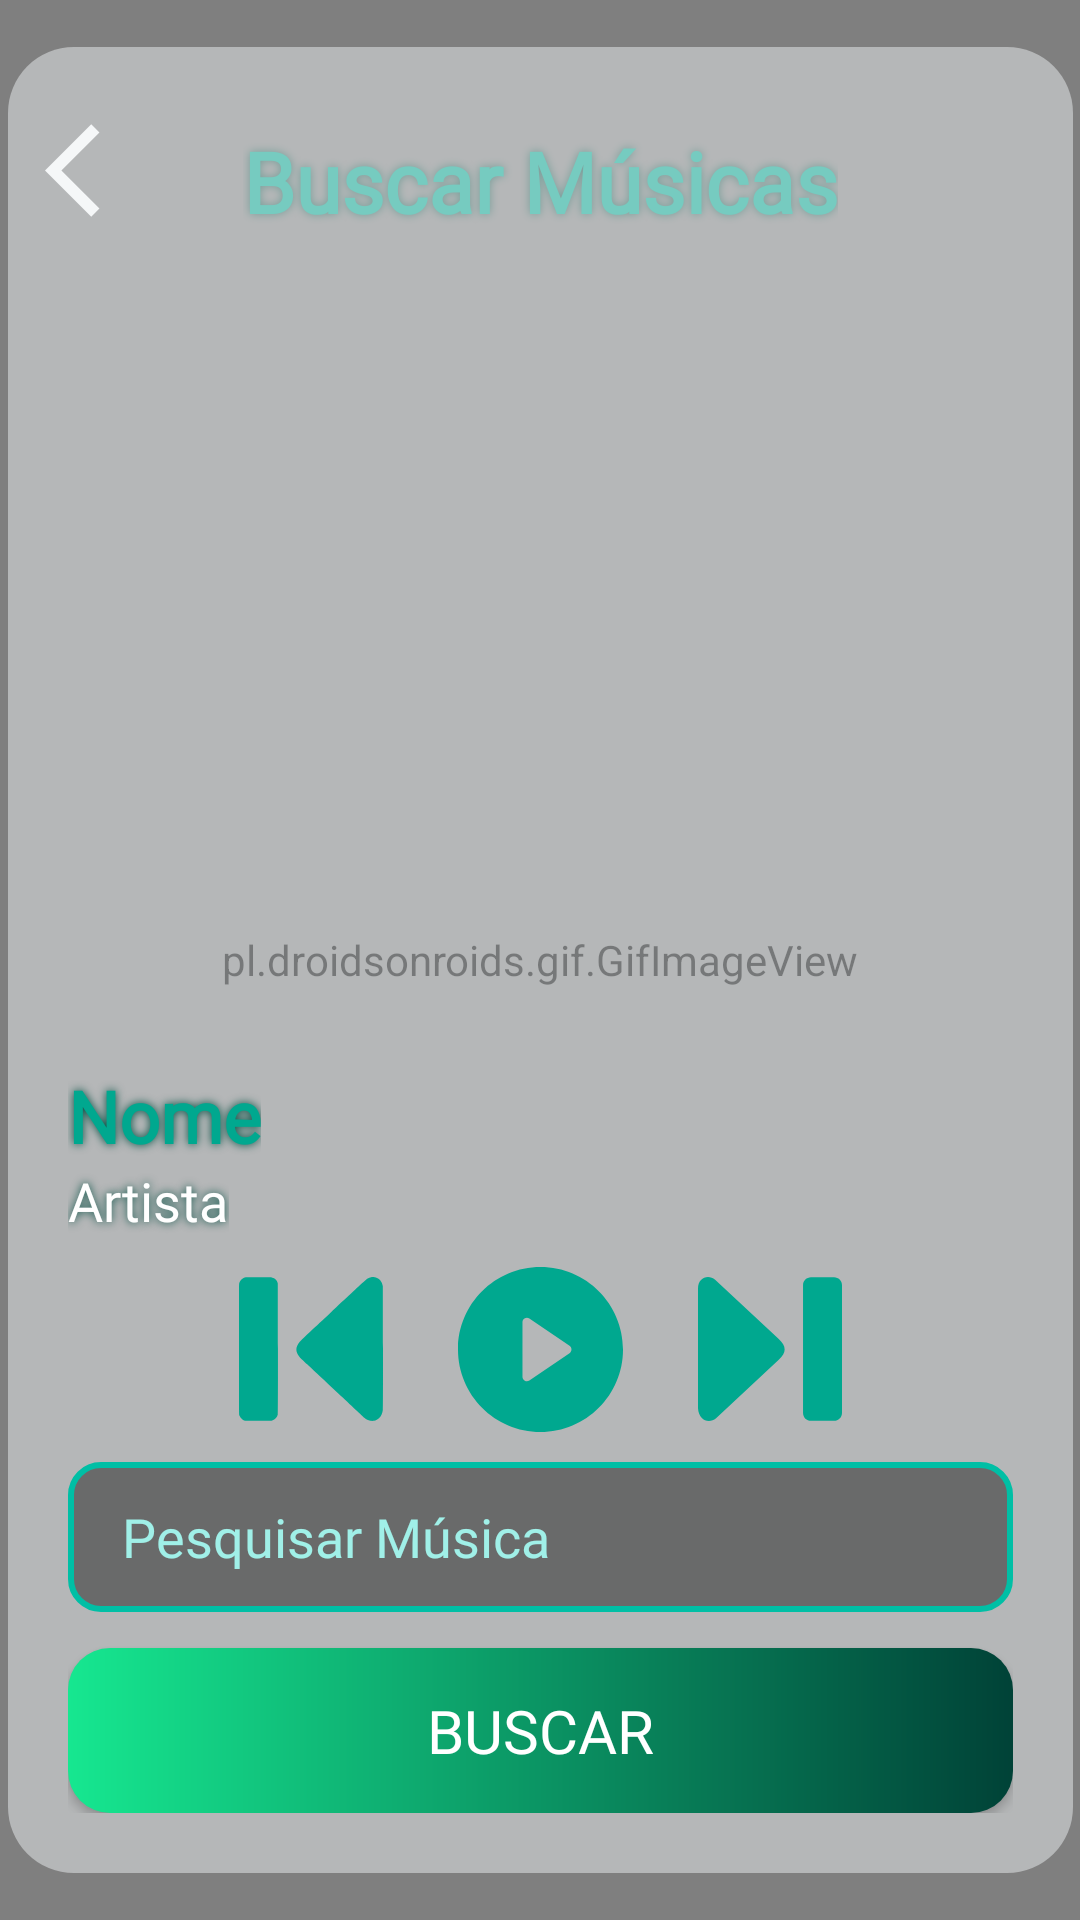

Named icons in this screenshot (1080 × 1920) and their bounding boxes, (x1, y1, x2, y2):
play: (458, 1267, 623, 1432)
voltar: (45, 124, 99, 217)
